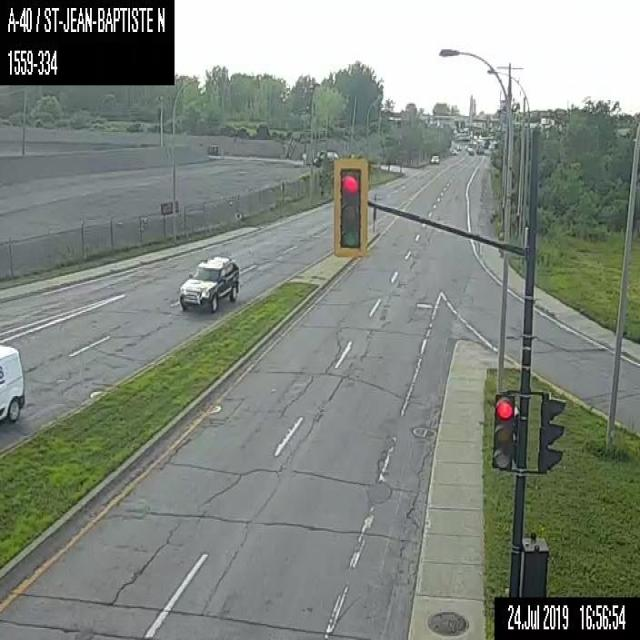vehicle: (178, 252, 240, 312), (0, 342, 25, 422), (312, 149, 338, 168), (476, 138, 484, 154), (430, 154, 439, 164), (466, 146, 473, 155)
